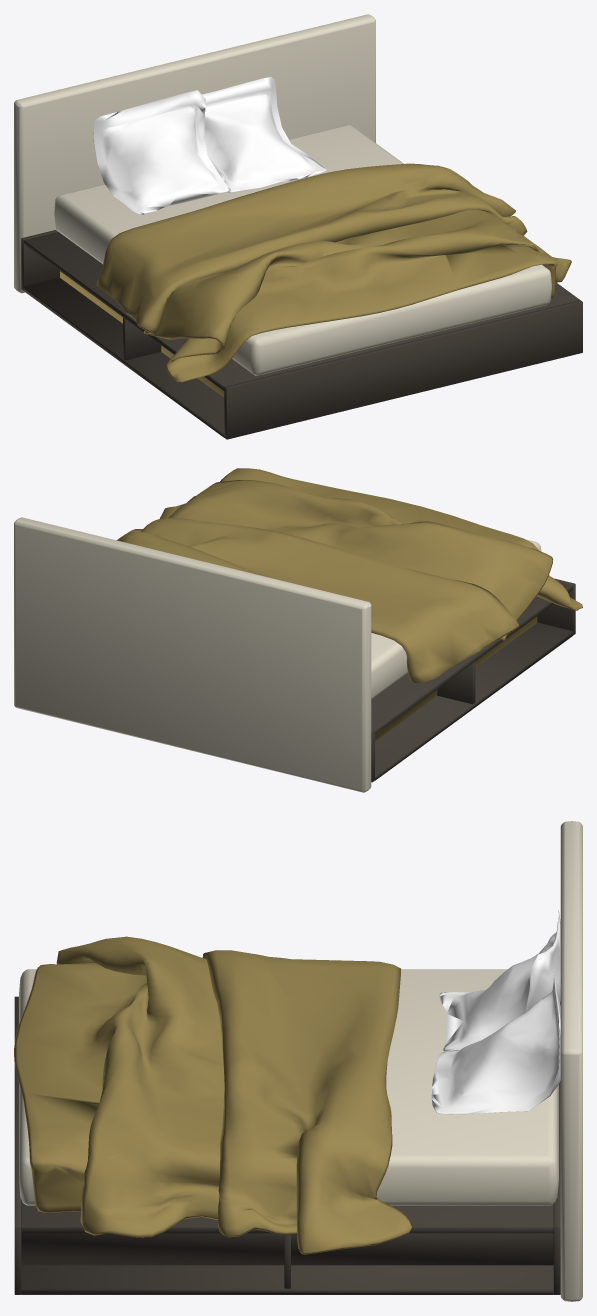
File: bed.FBX
3 renders of one model, top to bottom at view 1: azimuth 30°, elevation 25°; view 2: azimuth 150°, elevation 25°; view 3: azimuth 270°, elevation 25°, orthographic. The views are drawn at different scales.
Parts seen in each view (by area): view 1: bed; view 2: bed; view 3: bed.
Part boxes in pixels (x1=…): bed: x1=14, y1=14, x2=582, y2=439; bed: x1=14, y1=468, x2=582, y2=792; bed: x1=14, y1=821, x2=582, y2=1301.
Bounding box in the file's own units: 101 × 42.98 × 87.76.
